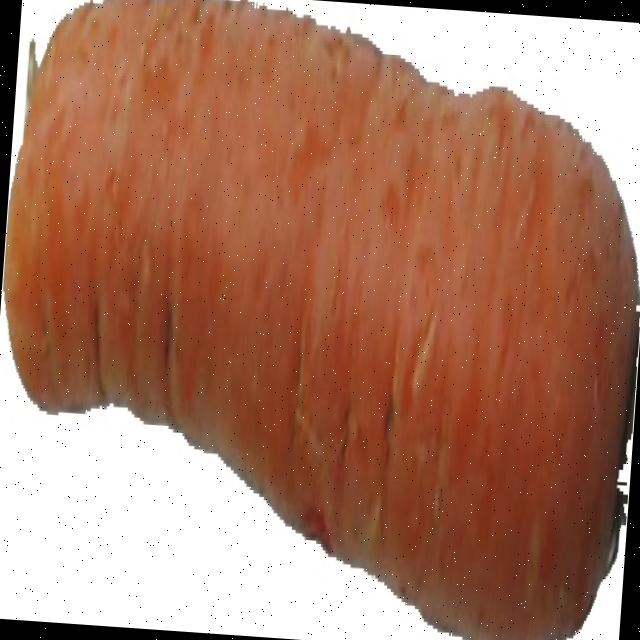carrot: (5, 0, 637, 640)
